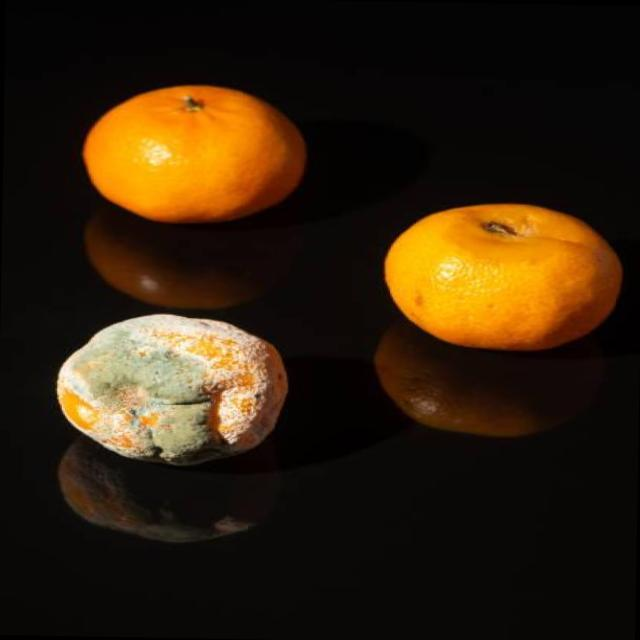rotten orange: (382, 200, 623, 352), (55, 311, 288, 466), (81, 82, 307, 224)
